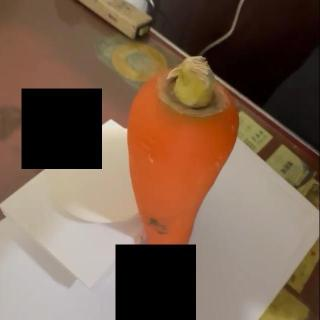carrot: (127, 58, 239, 272)
